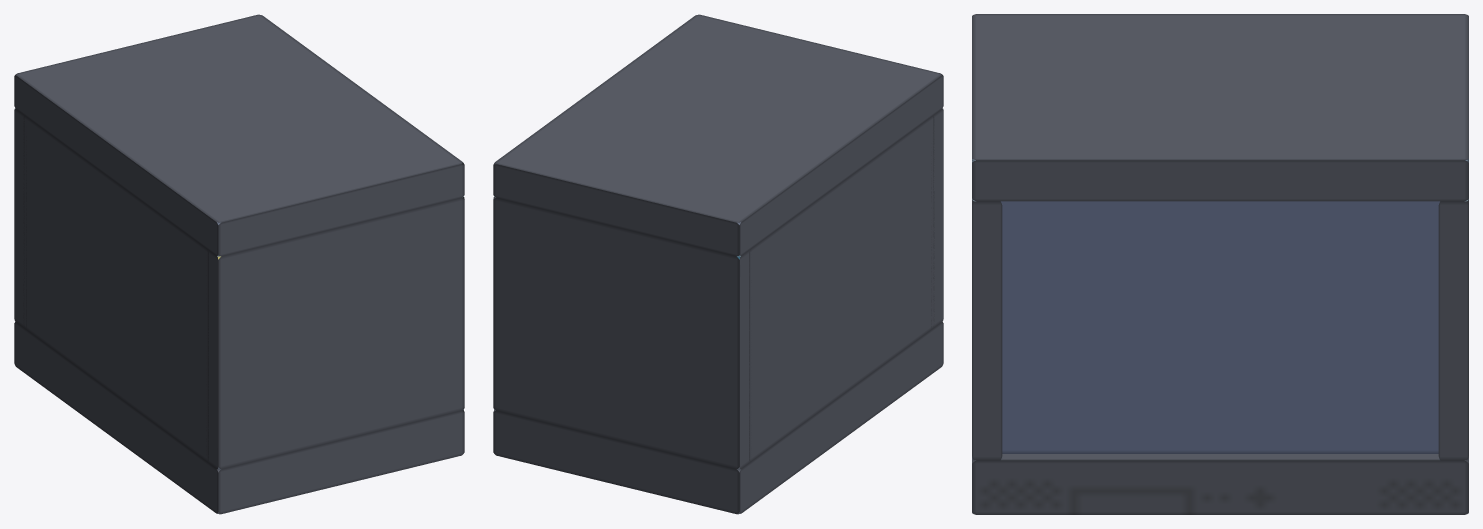
The picture shows the model from 3 angles, left to right: view 1: azimuth 30°, elevation 25°; view 2: azimuth 150°, elevation 25°; view 3: azimuth 270°, elevation 25°; orthographic projection. The views are drawn at different scales.
Visible parts, largest first — view 1: cuboid_2, cuboid_4, cuboid, cuboid_1, cuboid_3; view 2: cuboid_2, cuboid_3, cuboid, cuboid_1, cuboid_4; view 3: cuboid, cuboid_2, cuboid_1, cuboid_4, cuboid_3.
Part boxes in pixels (x1,y1,x2,y2): cuboid_2: (14,14,464,256); cuboid_4: (206,196,464,469); cuboid: (23,116,220,461); cuboid_1: (14,322,464,514); cuboid_3: (14,108,26,328); cuboid_2: (493,14,943,256); cuboid_3: (493,196,751,469); cuboid: (737,116,934,461); cuboid_1: (493,322,943,514); cuboid_4: (931,108,943,328); cuboid: (1001,201,1439,453); cuboid_2: (972,14,1468,201); cuboid_1: (972,454,1468,514); cuboid_4: (972,159,1002,460); cuboid_3: (1438,160,1468,460).
Size of the model in its own units: 28.75 by 32.5 by 41.25.
1 material, 1 textured.
